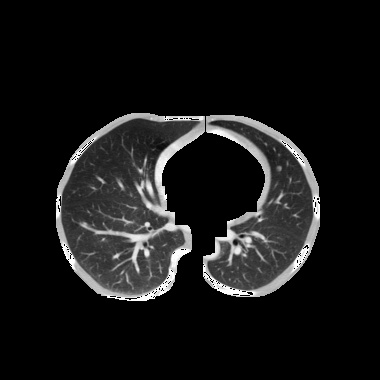PN: (276, 166, 282, 172)
